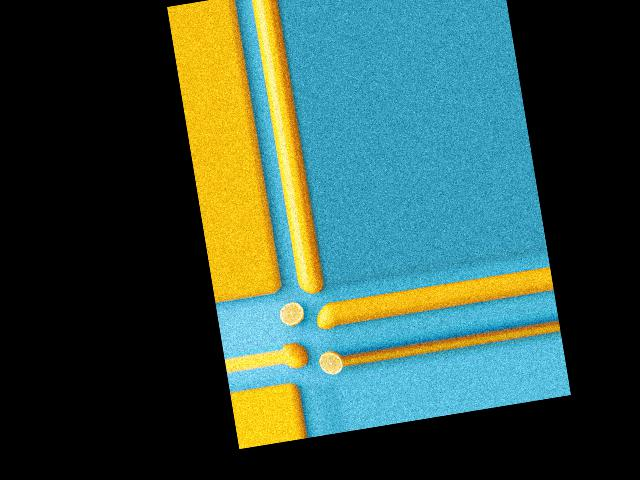lemon: (296, 278, 323, 298)
